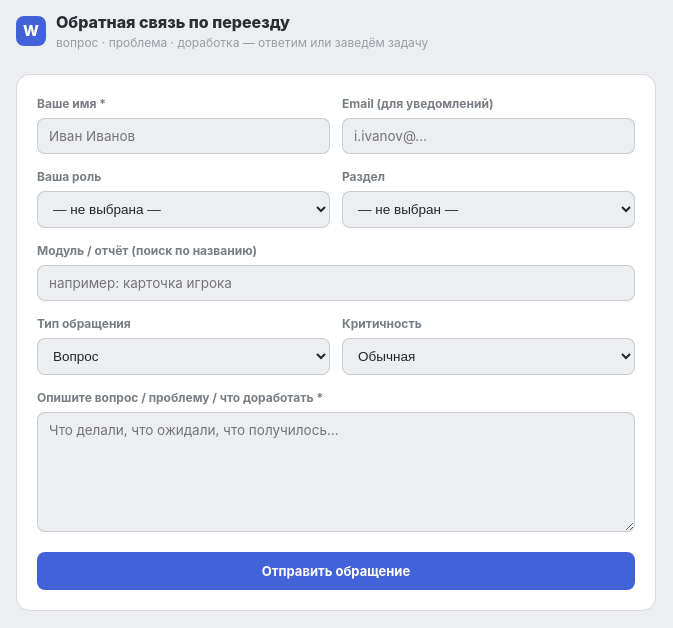
Scenario: FeedbackApp (публичная форма и трек) › отправляет обращение и показывает персональную ссылку
The image size is (673, 628).
Type "Анна Котова" into the field with placeholder "Иван Иванов" at (184, 136), box left=37, top=118, right=330, bottom=154
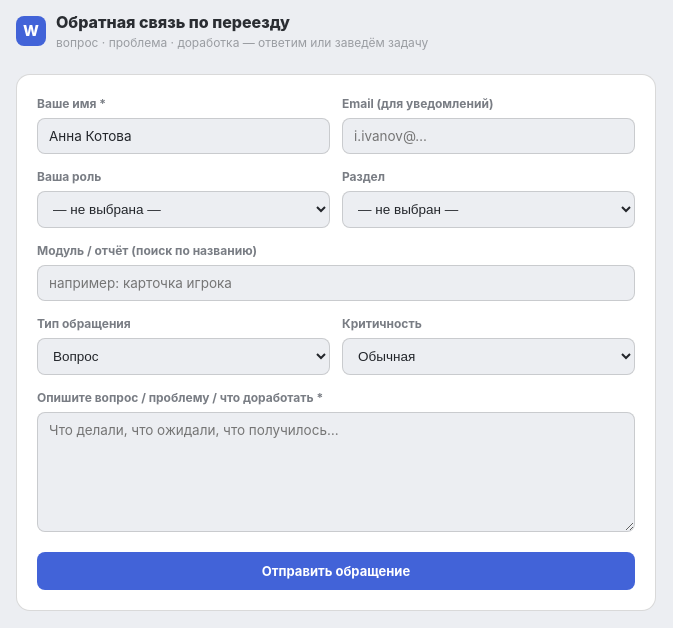
Type "Не видно историю блокировок" into the text box with placeholder "Что делали, что ожидали, что получилось…" at (336, 472), box left=37, top=412, right=635, bottom=532
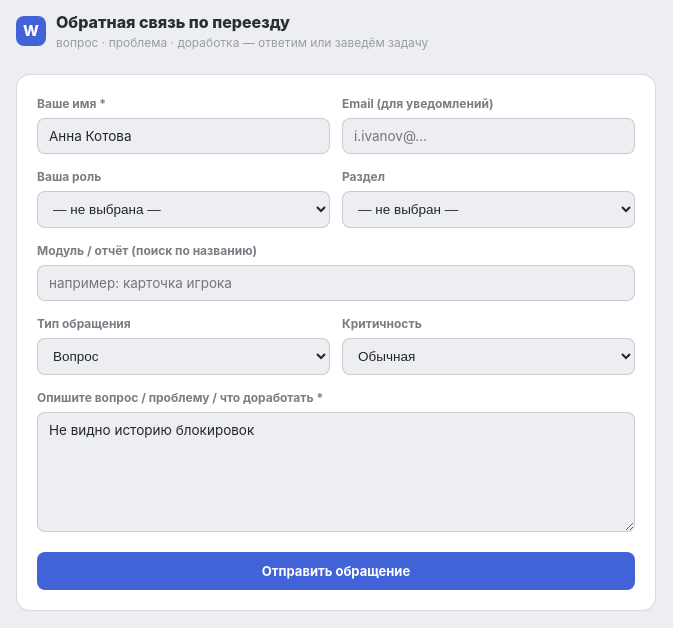
Click the button "Отправить обращение" at (336, 571), box left=37, top=552, right=635, bottom=590
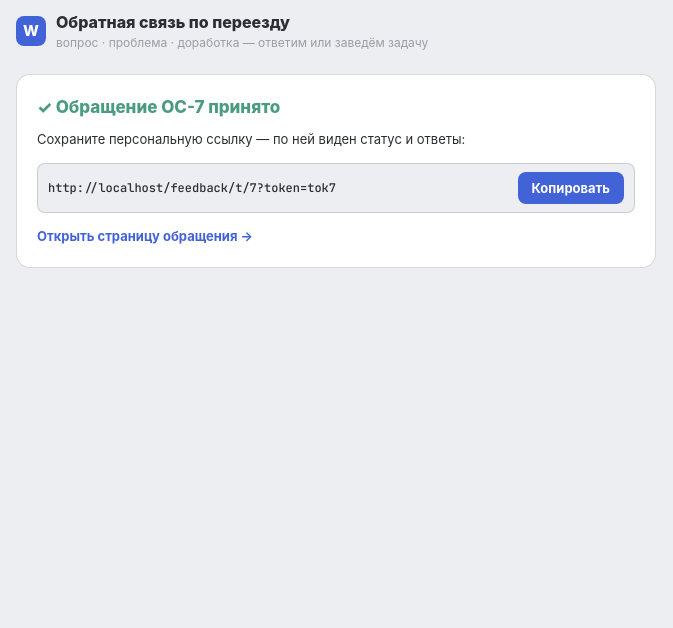
Check: the text "✓ Обращение ОС-7 принято" is shown, box left=37, top=97, right=280, bottom=117
Check: the text "http://localhost/feedback/t/7?token=tok7" is shown, box left=48, top=180, right=336, bottom=196
